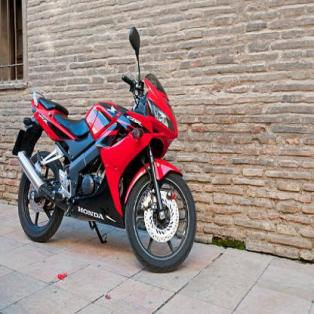Motocicleta: (13, 30, 198, 276)
